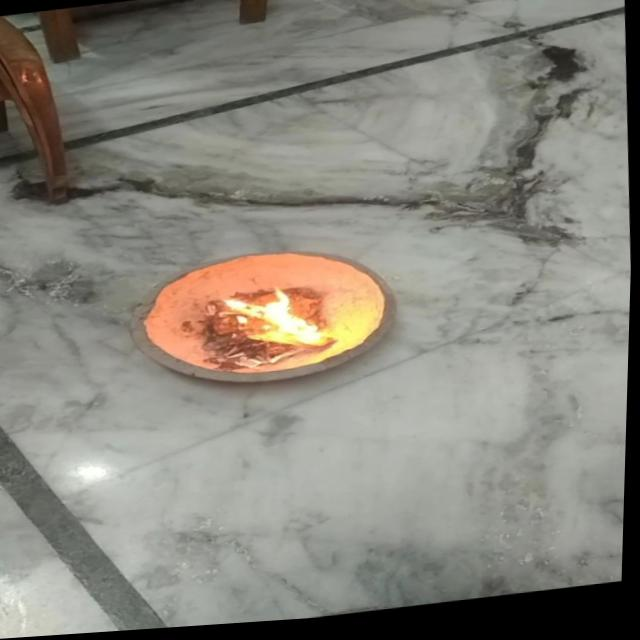fire: (213, 284, 331, 357)
